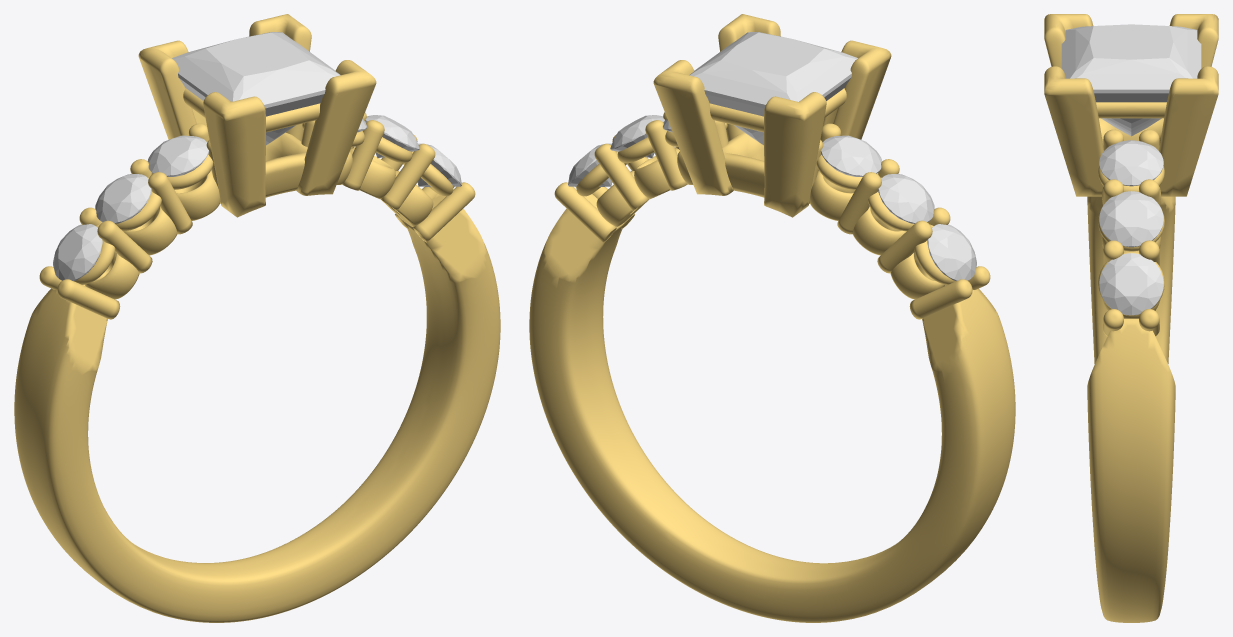
Rendered from diamond-princess-yellowgold-protectededges4prongs-straighttaperedband-7stone.glb.
The picture shows the model from 3 angles, left to right: view 1: azimuth 30°, elevation 25°; view 2: azimuth 150°, elevation 25°; view 3: azimuth 270°, elevation 25°; orthographic projection.
Parts seen in each view (by area): view 1: metal, stone, side, side.001, side.002, side.004, side.005; view 2: metal, stone, side, side.001, side.002, side.004, side.005; view 3: metal, stone, side.005, side.004, side.003.
Part boxes in pixels (x1,y1,x2,y2): metal: (14, 14, 500, 622); stone: (172, 32, 340, 145); side: (53, 224, 102, 280); side.001: (95, 174, 151, 223); side.002: (147, 135, 208, 176); side.004: (365, 115, 419, 158); side.005: (417, 143, 461, 186); metal: (529, 14, 1015, 622); stone: (689, 32, 857, 145); side: (927, 224, 976, 280); side.001: (878, 174, 934, 223); side.002: (820, 135, 882, 176); side.004: (610, 115, 664, 158); side.005: (568, 143, 612, 186); metal: (1044, 14, 1218, 622); stone: (1061, 24, 1201, 136); side.005: (1099, 253, 1163, 315); side.004: (1099, 191, 1163, 247); side.003: (1099, 140, 1163, 186).
Size of the model in its own units: 20.51 by 23.86 by 6.77.
